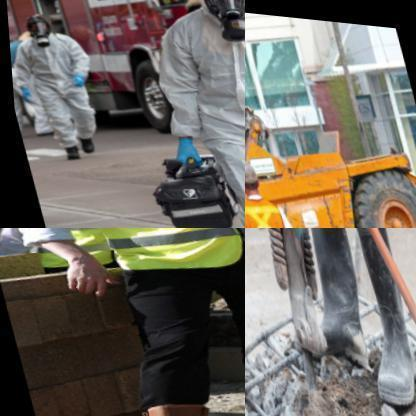vest: (136, 0, 244, 161), (46, 228, 244, 295), (7, 22, 102, 103), (245, 186, 297, 227)
